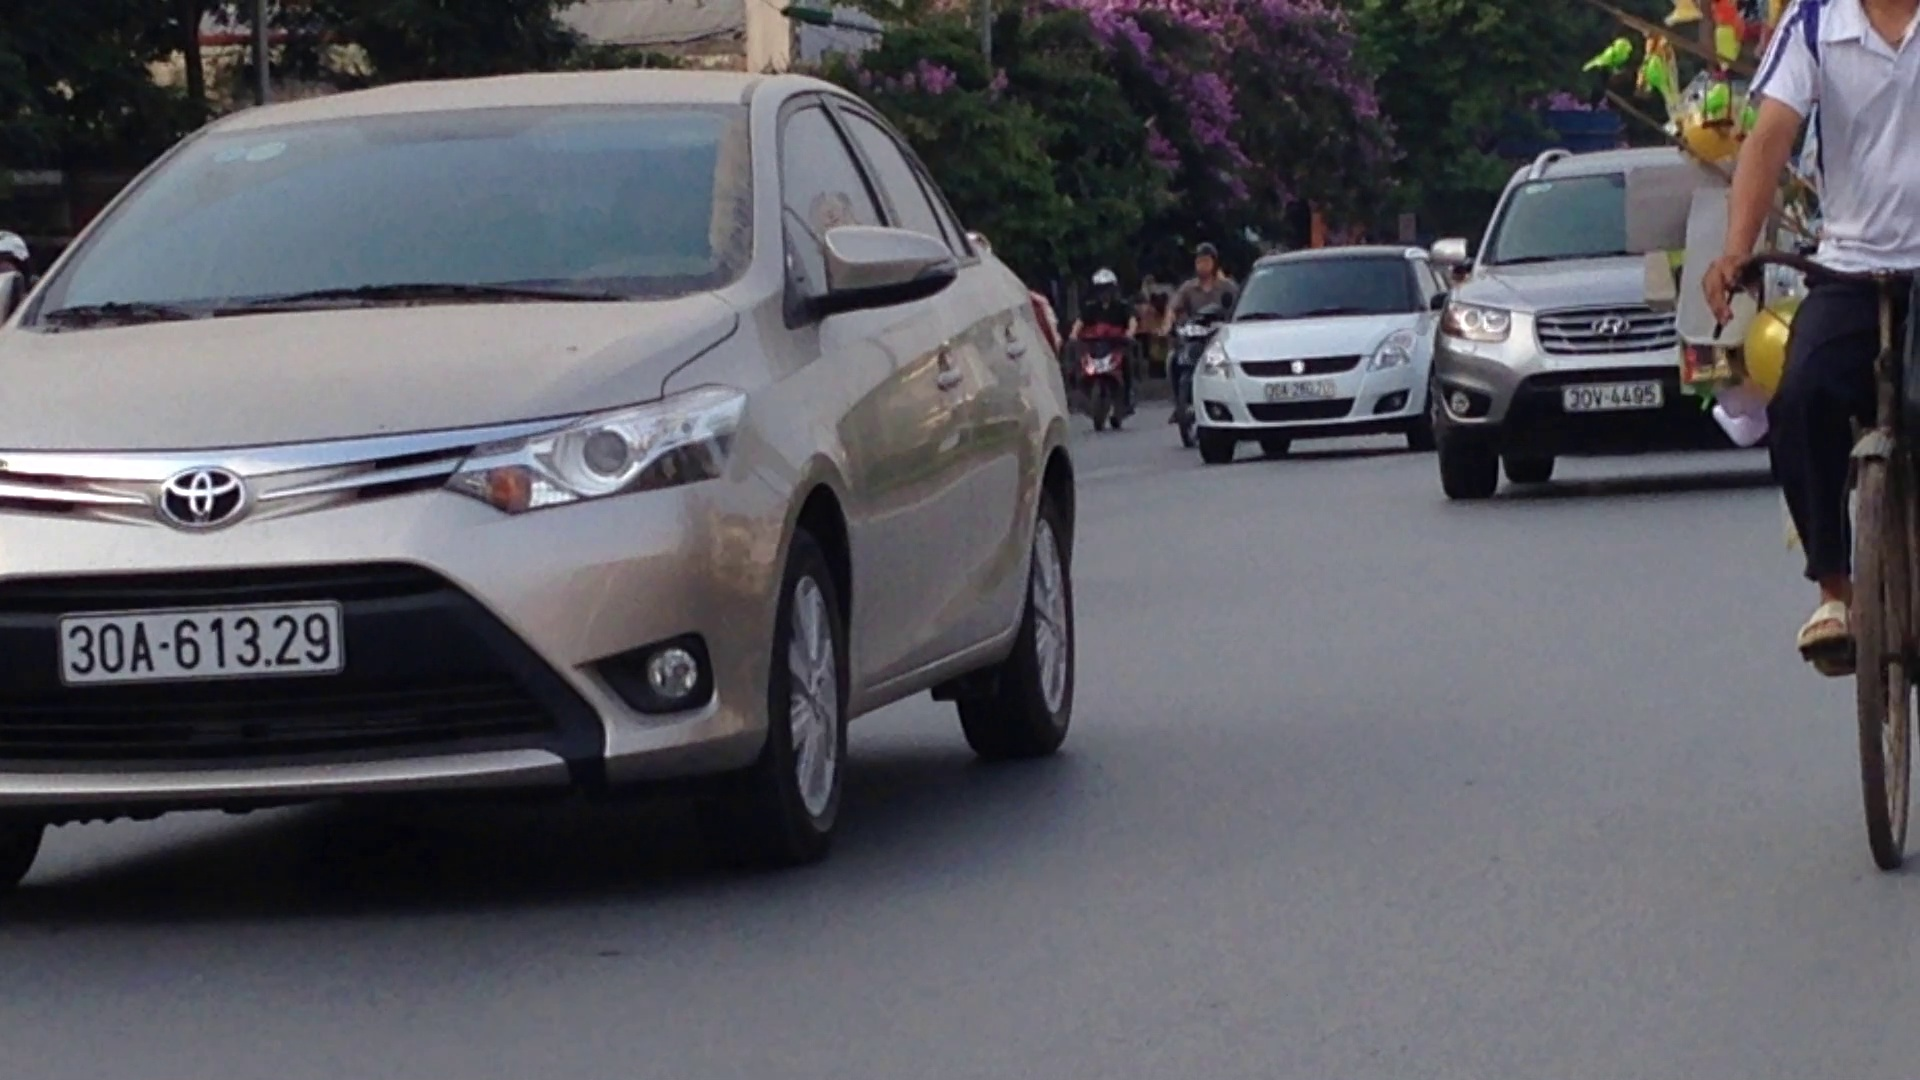person: (58, 605, 345, 685), (1555, 373, 1668, 416)
